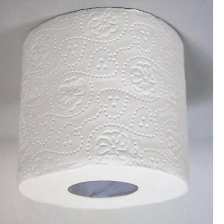tissue: (11, 2, 196, 214)
